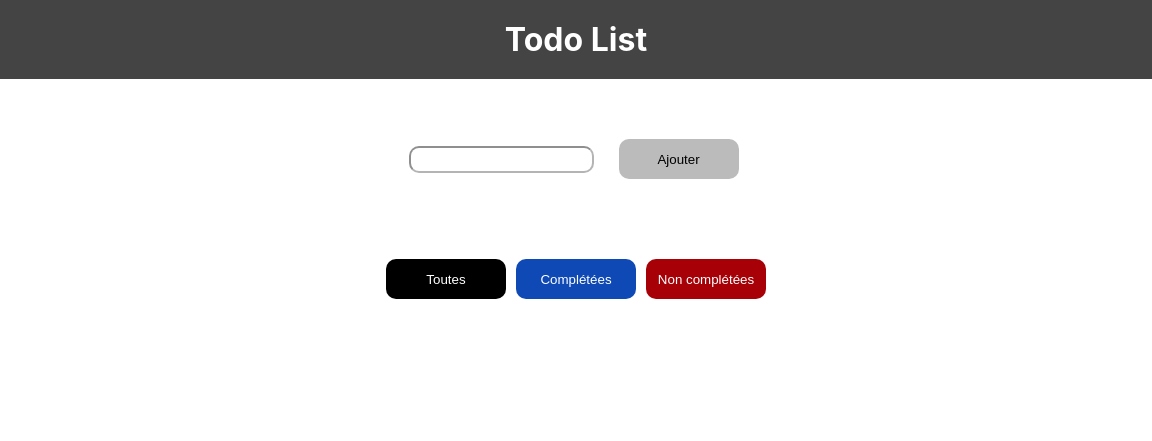
Test: App Component › Devrait pouvoir filtrer les tâches
The width and height of the screenshot is (1152, 441).
// Ajoutez quelques tâches
Type "Tâche 1" into the field with test id "task-input" at (502, 160), box [409,146,594,173]
Click the button with test id "add-task-btn" at (679, 159), box [619,139,739,179]
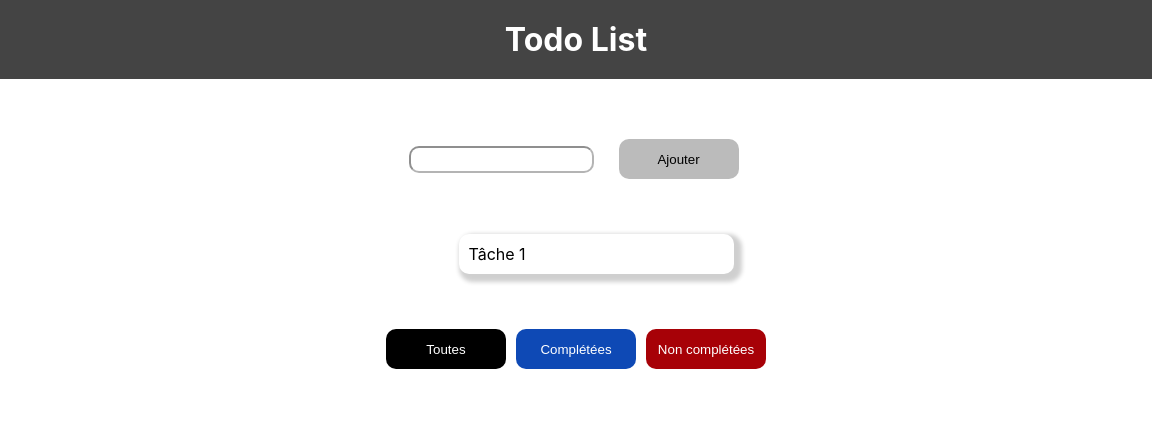
Type "Tâche 2" into the field with test id "task-input" at (502, 160), box [409,146,594,173]
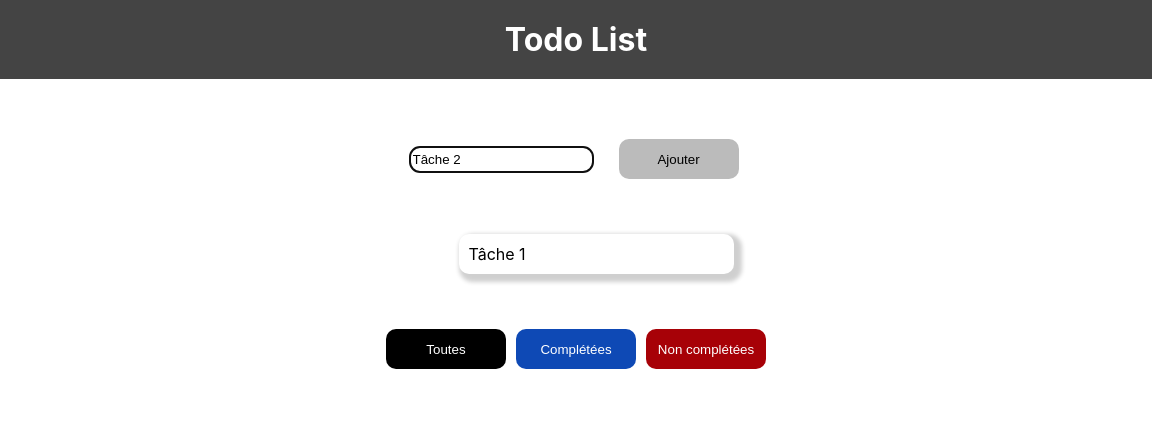
Click the button with test id "add-task-btn" at (679, 159), box [619,139,739,179]
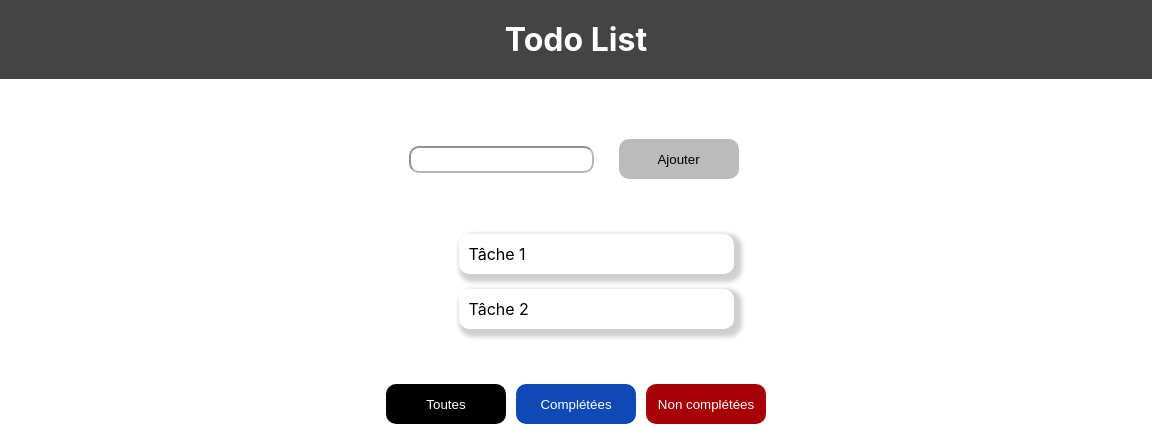
Click the list item with test id "task-item" showing "Tâche 1" at (597, 254), box [459,234,734,274]
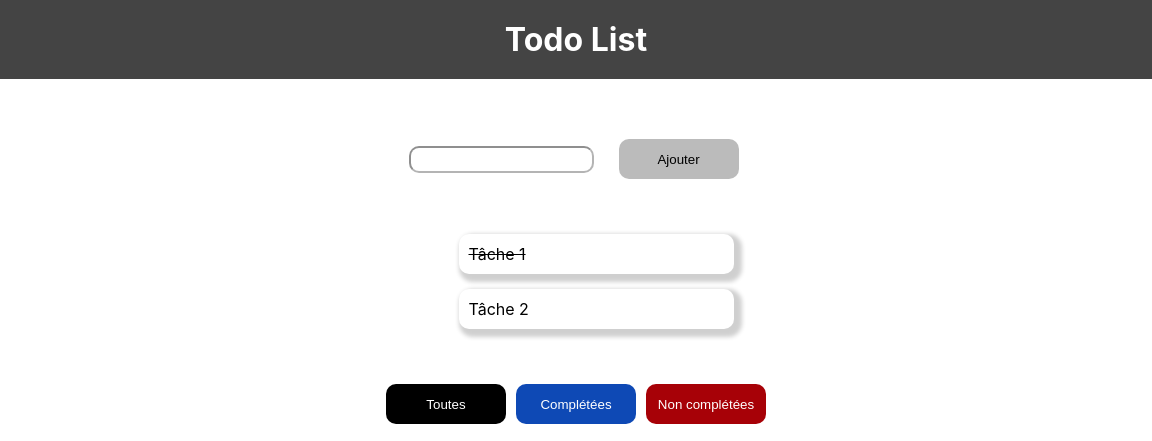
// Filtrer les tâches complétées
Click the button "Complétées" at (576, 404), box [516,384,636,424]
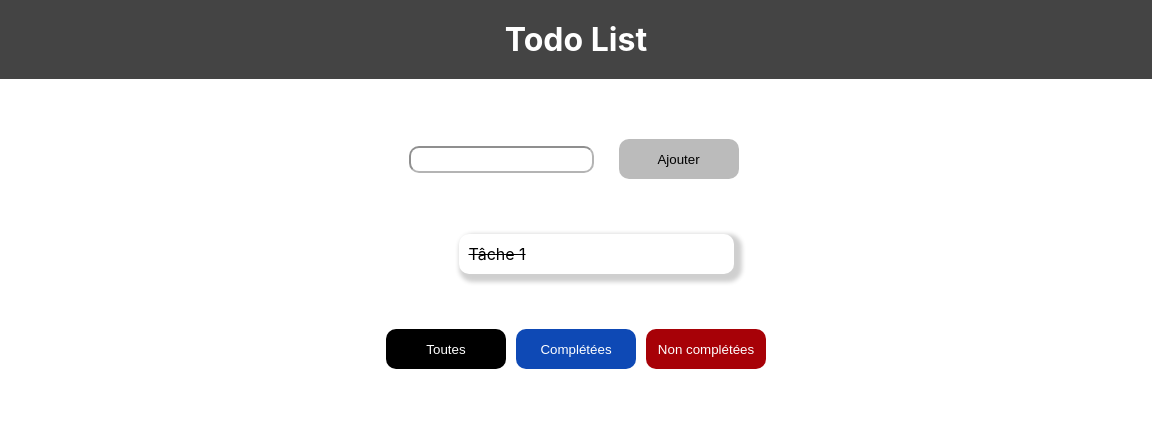
Check: the number of list items with test id "task-item" is 1, box [459,234,734,274]
// Filtrer les tâches non complétées
Click the button "Non complétées" at (706, 349), box [646,329,766,369]
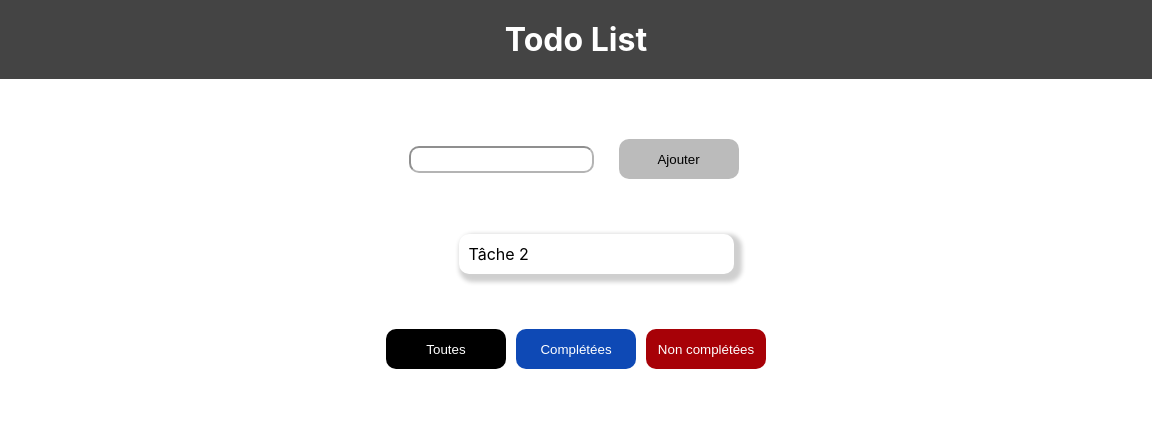
Check: the number of list items with test id "task-item" is 1, box [459,234,734,274]
